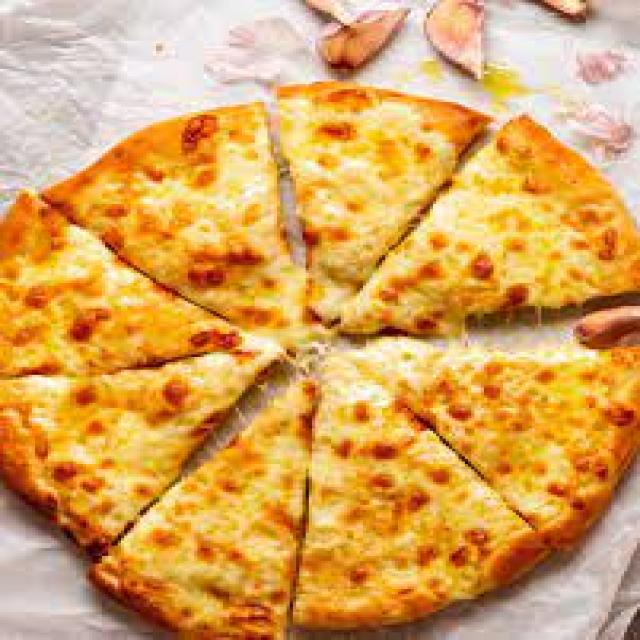피자: (0, 102, 640, 640)
